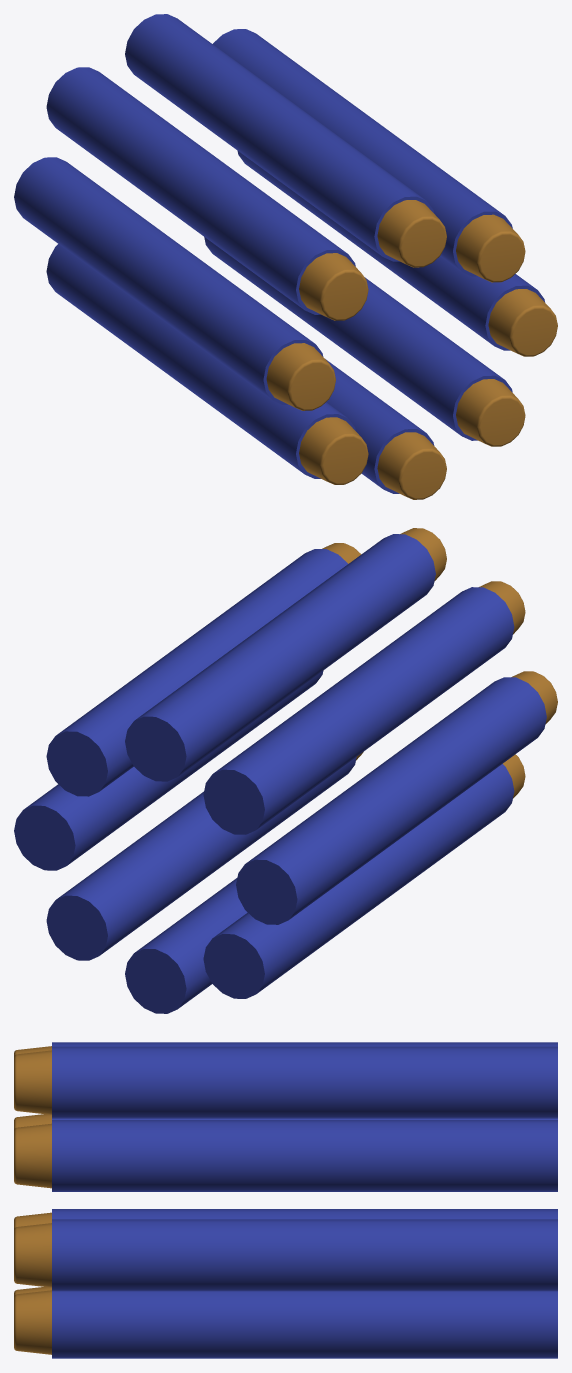
The model's file is ammo.fbx.
3 views of the same model, one above another, from view 1: azimuth 30°, elevation 25°; view 2: azimuth 150°, elevation 25°; view 3: azimuth 270°, elevation 25° (orthographic).
Visible parts, largest first — view 1: munizioni_geo; view 2: munizioni_geo; view 3: munizioni_geo.
Boxes of the visible parts, x1,y1,x2,y2 form: munizioni_geo: [14, 14, 557, 499]; munizioni_geo: [14, 528, 557, 1013]; munizioni_geo: [14, 1042, 557, 1358].
Size of the model in its own units: 3.52 by 3.52 by 5.77.
